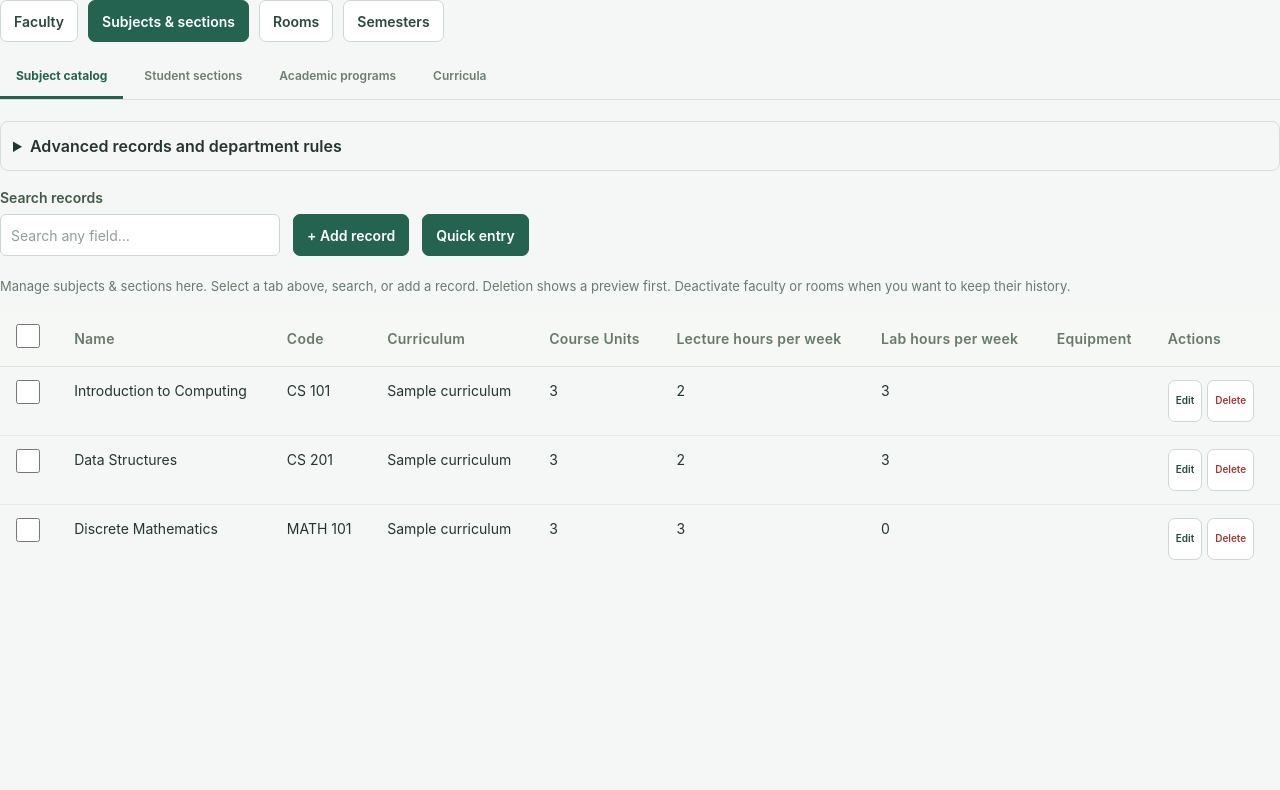
Test case: keeps subject details when save and add another fails
Click the button "+ Add record". click: (351, 235)
box: [293,214,409,256]
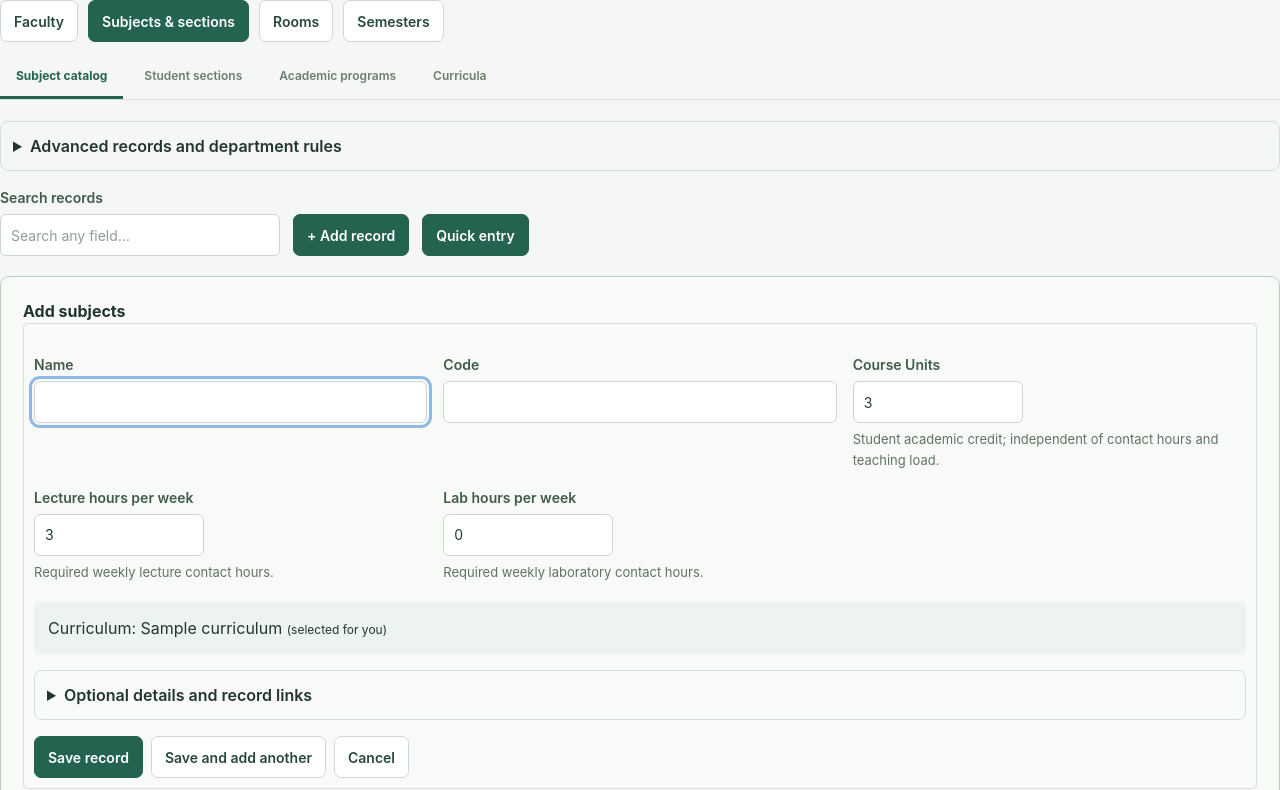
Type "Algorithms" into the field labelled "Name". click: (231, 402)
box: [34,381,427,423]
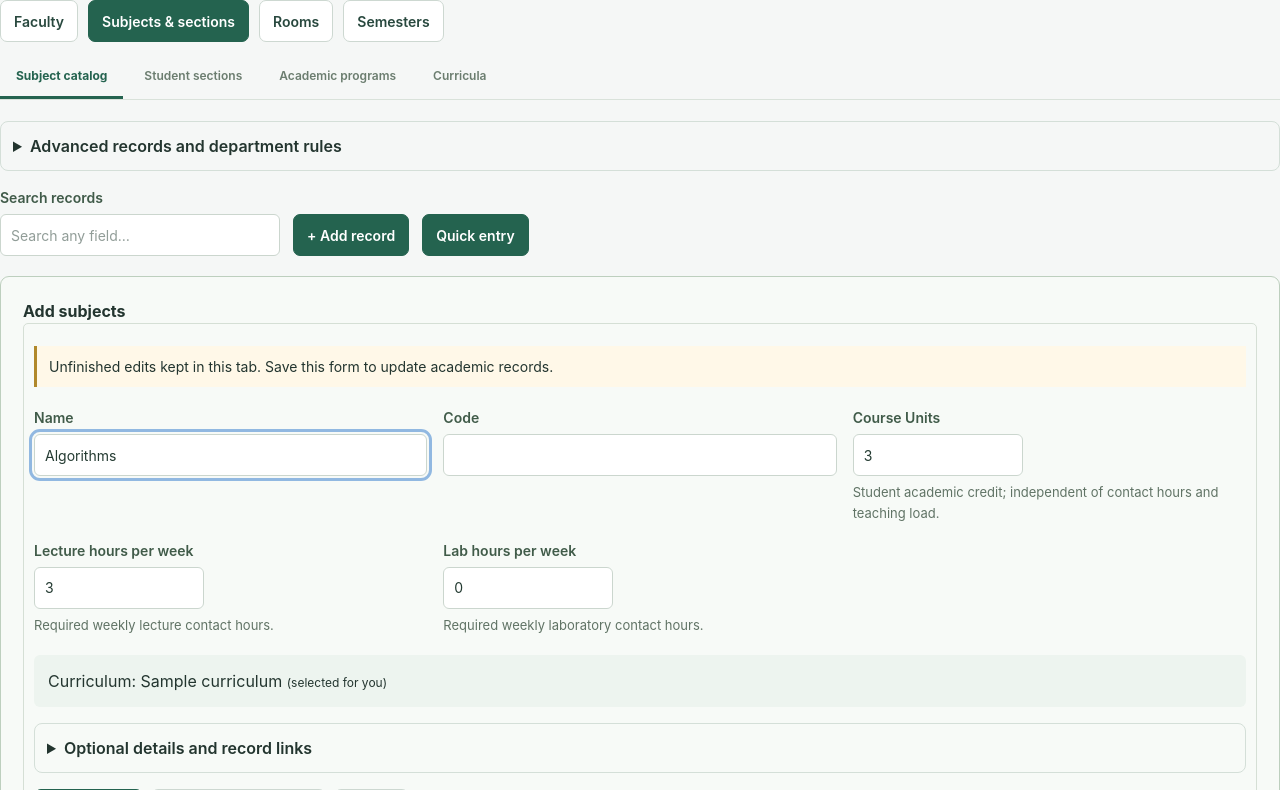
Type "CS 301" into the field labelled "Code". click: (640, 455)
box: [443,434,837,476]
(page scrolled)
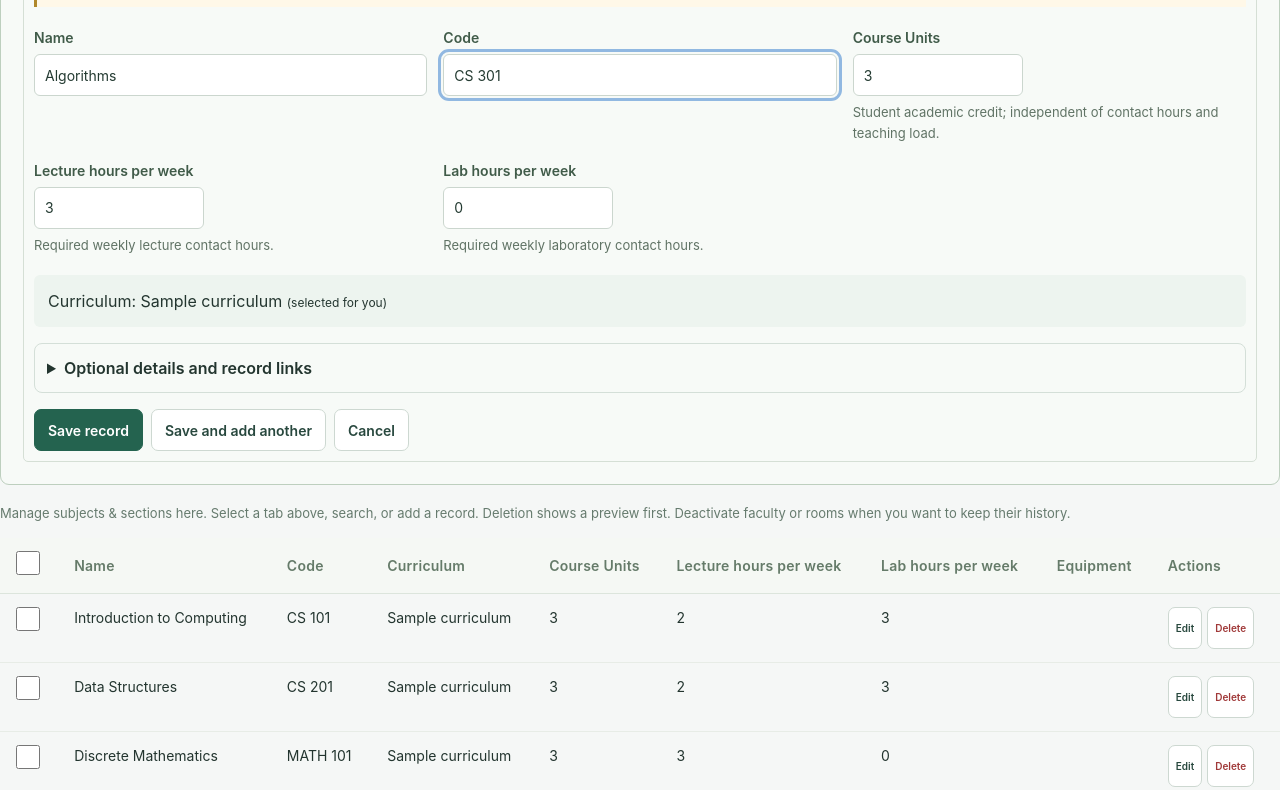
Click the button "Save and add another". click: (238, 430)
box: [151,409,326,451]
(page scrolled)
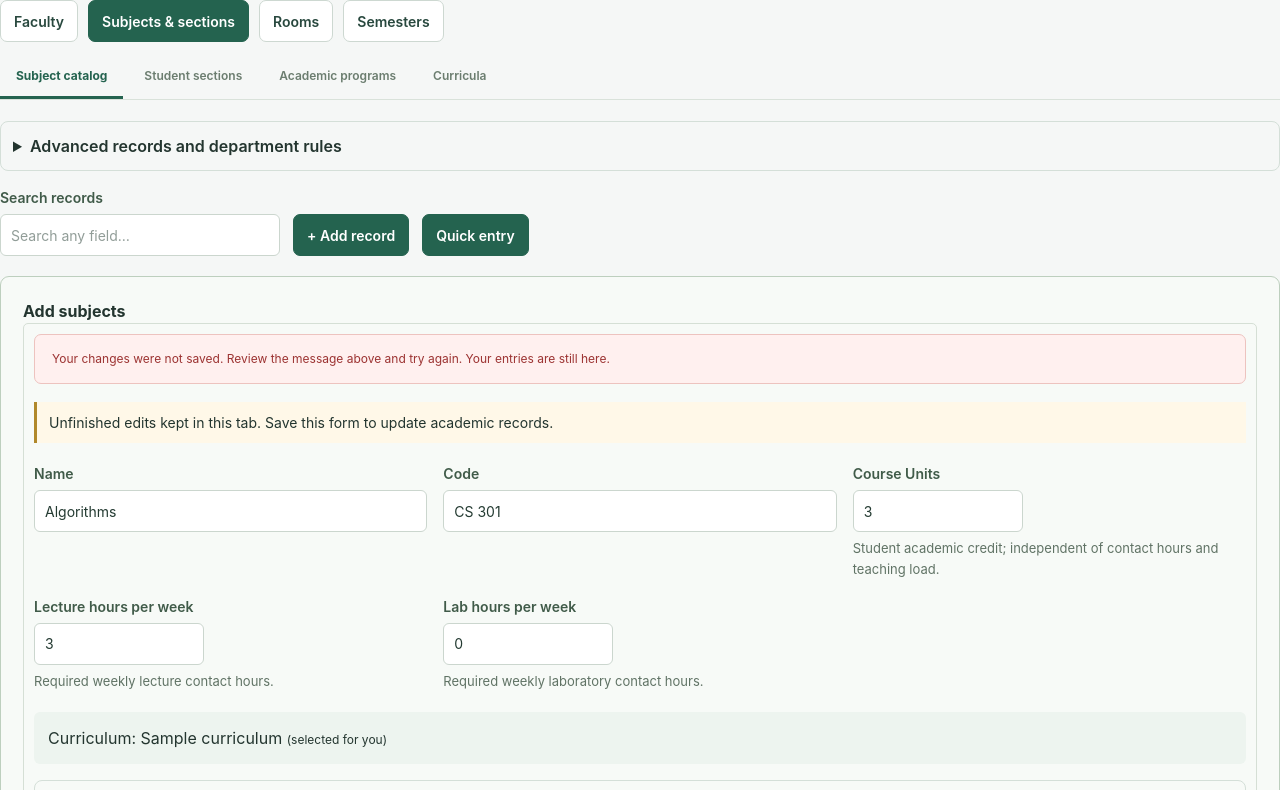
Now the message shows "not saved", box [52,351,610,366]
